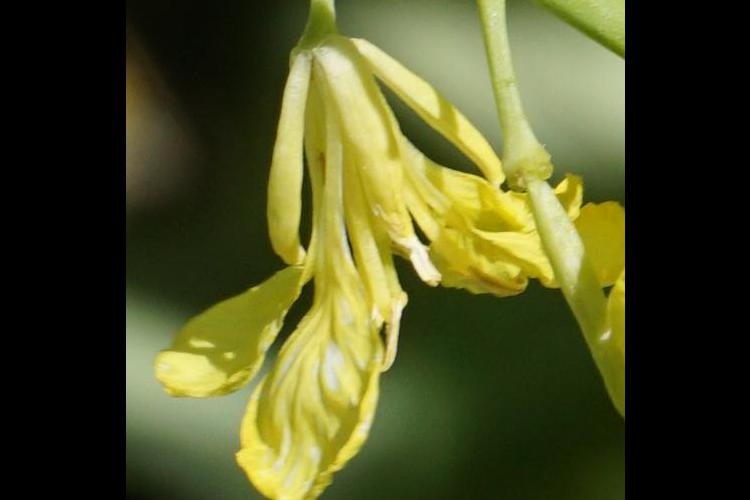yellow: (174, 43, 546, 500)
